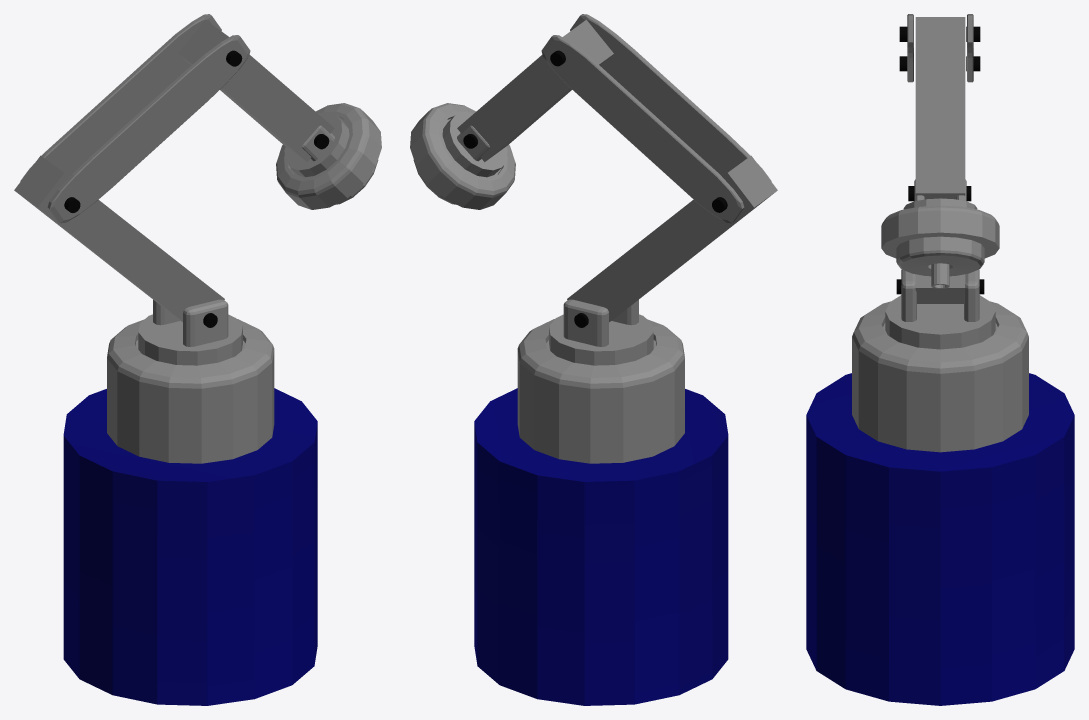
Rendered from SM_Prop_MetalArm_02.fbx.
3 views of the same model, side by side, from view 1: azimuth 30°, elevation 25°; view 2: azimuth 150°, elevation 25°; view 3: azimuth 270°, elevation 25° (orthographic). The views are drawn at different scales.
Visible parts, largest first — view 1: manorobotica; view 2: manorobotica; view 3: manorobotica.
Part boxes in pixels (x1,y1,x2,y2): manorobotica: (14,14,381,705); manorobotica: (410,14,777,705); manorobotica: (806,14,1074,705).
Size of the model in its own units: 1.37 by 2.33 by 0.8742.
2 materials, 2 textured.
